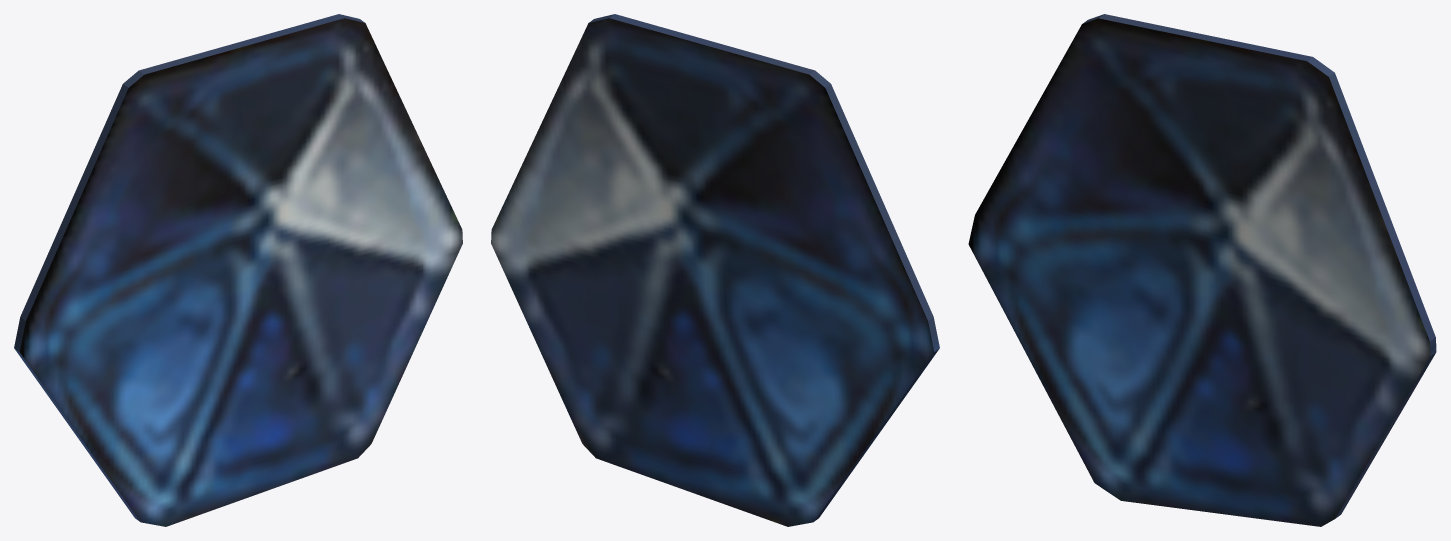
The model's file is Mana.glb.
3 renders of one model, left to right at view 1: azimuth 30°, elevation 25°; view 2: azimuth 150°, elevation 25°; view 3: azimuth 330°, elevation 25°, orthographic. The views are drawn at different scales.
Parts seen in each view (by area): view 1: Circle.002; view 2: Circle.002; view 3: Circle.002.
Boxes of the visible parts, left/top/right/bottom form: Circle.002: left=14, top=14, right=462, bottom=526; Circle.002: left=491, top=14, right=939, bottom=526; Circle.002: left=968, top=14, right=1436, bottom=526.
Bounding box in the file's own units: 2.24 × 2.25 × 0.05.
Materials: 1 (1 with a texture image).
